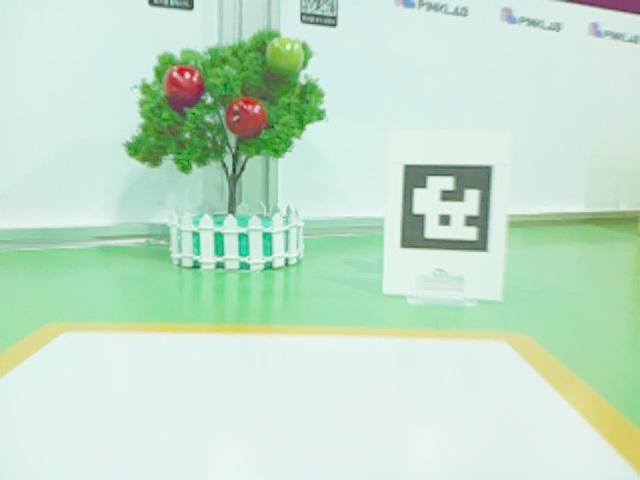apple: (226, 97, 267, 137), (165, 66, 203, 102)
